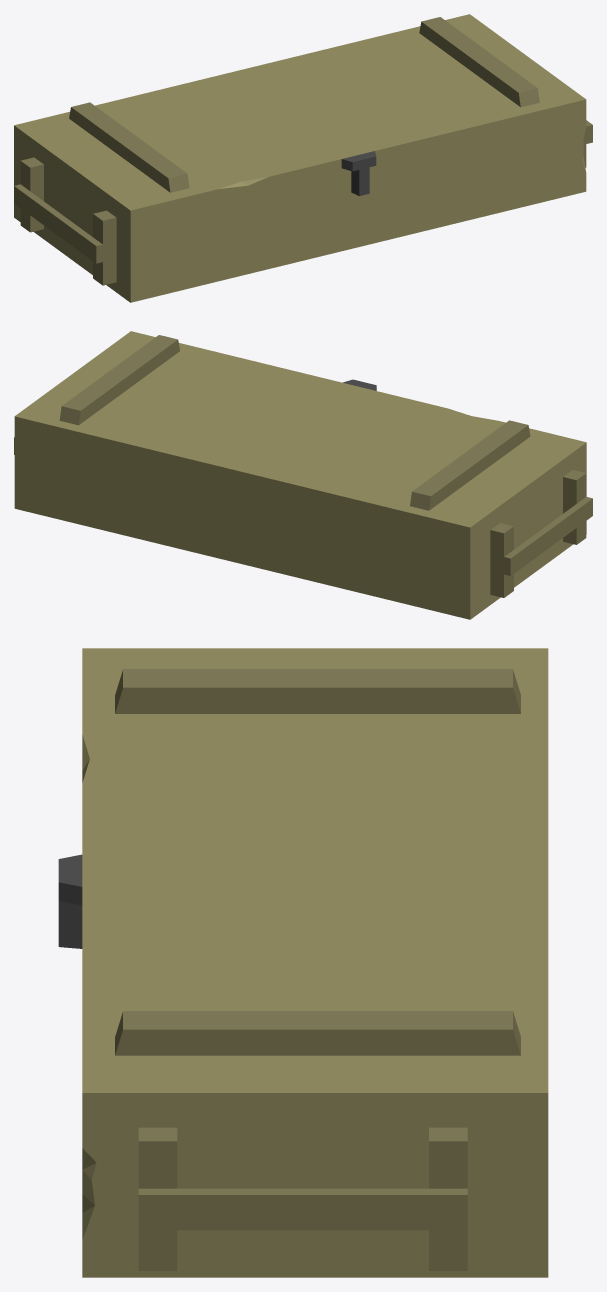
The model's file is Wh_Crate_02.fbx.
3 renders of one model, top to bottom at view 1: azimuth 30°, elevation 25°; view 2: azimuth 150°, elevation 25°; view 3: azimuth 270°, elevation 25°, orthographic. The views are drawn at different scales.
Parts seen in each view (by area): view 1: Cube.1047, Cube.1048; view 2: Cube.1047, Cube.1048; view 3: Cube.1047, Cube.1048.
Boxes of the visible parts, x1=… form: Cube.1047: x1=14, y1=14, x2=586, y2=219; Cube.1048: x1=14, y1=109, x2=592, y2=302; Cube.1047: x1=14, y1=331, x2=586, y2=536; Cube.1048: x1=14, y1=426, x2=592, y2=619; Cube.1047: x1=58, y1=648, x2=548, y2=1111; Cube.1048: x1=58, y1=901, x2=548, y2=1277.
Size of the model in its own units: 205 by 41.62 by 87.69.
